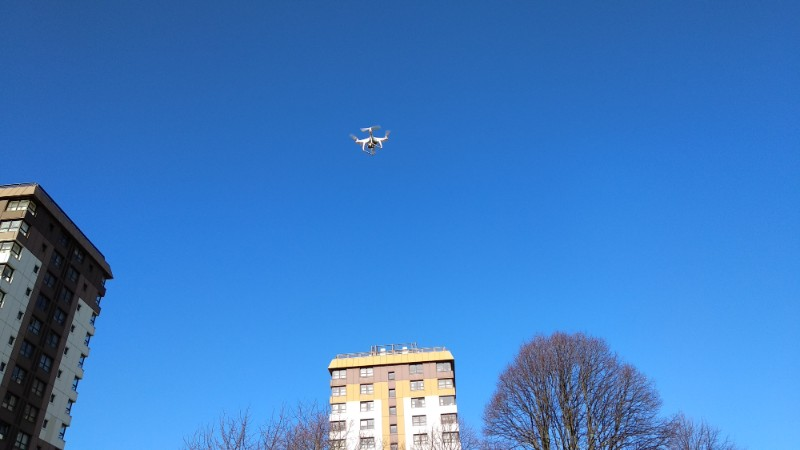drone: (348, 123, 392, 155)
